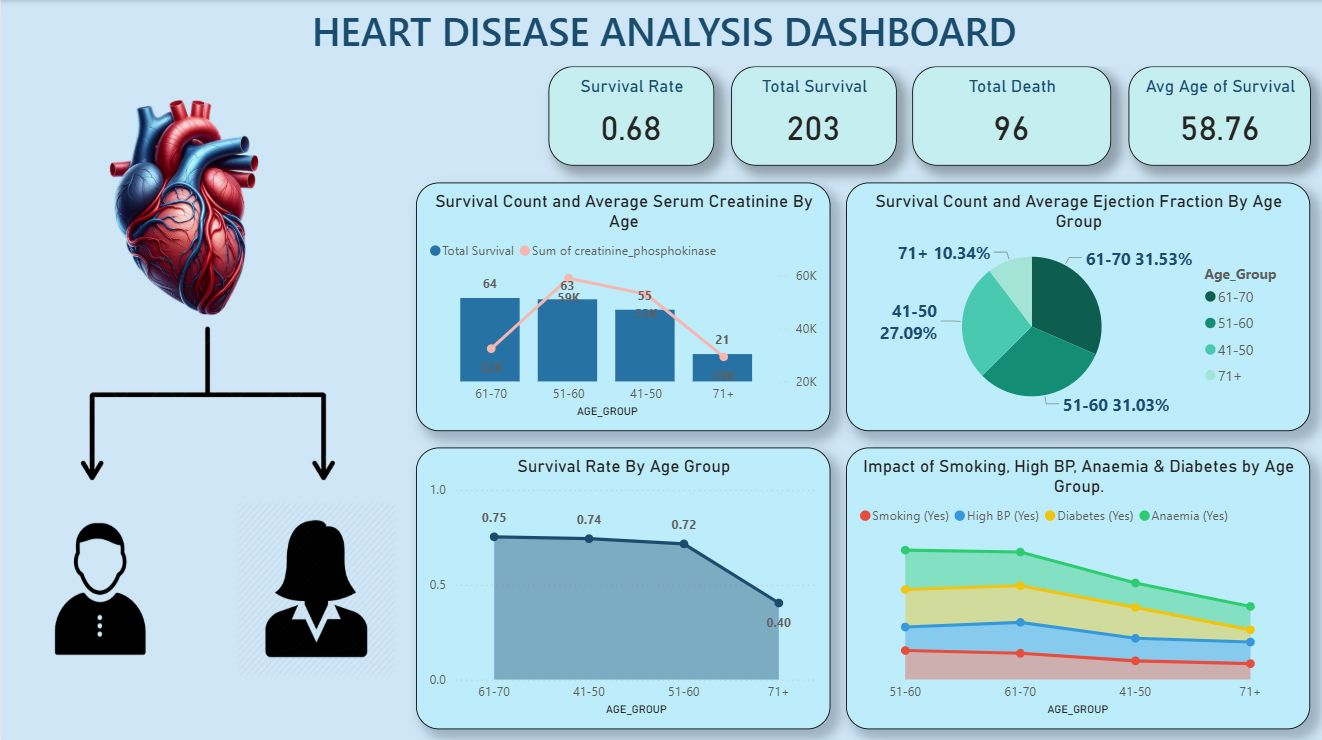

This screenshot's page, from the dashboard's own definition file:
{"tool":"powerbi","page":{"name":"Page 1","canvas":[1280,720],"ordinal":0},"visuals":[{"type":"card","title":"Total Survival","fields":{"Values":["heartfail.Total Survival"]},"box":[704,64,160,96],"z":0},{"type":"card","title":"Survival Rate","fields":{"Values":["heartfail.Survival Rate"]},"box":[528,64,160,96],"z":1000},{"type":"card","title":"Total Death","fields":{"Values":["heartfail.Total Death"]},"box":[880,64,192,96],"z":2000},{"type":"card","title":"Avg Age of Survival","fields":{"Values":["heartfail.Survival % by Age"]},"box":[1088,64,176,96],"z":3000},{"type":"lineClusteredColumnComboChart","title":"Survival Count and Average Serum Creatinine By Age","fields":{"Category":["heartfail.AGE_GROUP"],"Y":["heartfail.Total Survival"],"Y2":["Sum(heartfail.creatinine_phosphokinase)"]},"box":[400,176,400,240],"z":4000},{"type":"pieChart","title":"Survival Count and Average Ejection Fraction By Age Group","fields":{"Category":["heartfail.AGE_GROUP"],"Y":["heartfail.Total Survival"]},"box":[816,176,448,240],"z":5000},{"type":"areaChart","title":"Survival Rate By Age Group","fields":{"Category":["heartfail.AGE_GROUP"],"Y":["heartfail.Survival Rate"]},"box":[400,432,400,272],"z":6000},{"type":"stackedAreaChart","title":"Impact of Smoking, High BP, Anaemia & Diabetes by Age Group.","fields":{"Category":["heartfail.AGE_GROUP"],"Y":["heartfail.Smoking (Yes)","heartfail.High BP (Yes)","heartfail.Diabetes (Yes)","heartfail.Anaemia (Yes)"]},"box":[816,432,448,272],"z":7000},{"type":"textbox","box":[0,0,1280,64],"z":8000},{"type":"slicer","fields":{"Values":["heartfail.sex"]},"box":[0,704,16,16],"z":9000},{"type":"actionButton","title":"♂","box":[16,480,160,176],"z":10000},{"type":"actionButton","title":"♀","box":[224,480,160,176],"z":11000},{"type":"actionButton","box":[64,80,224,240],"z":12000},{"type":"image","box":[16,256,368,288],"z":13000}]}

Visuals, with their boxes in screenshot pixels (x1, y1, x2, y2), scaled from the page's 1280x720 canvas onto the 1322x740 screenshot:
"Total Survival" card: left=727, top=66, right=892, bottom=164
"Survival Rate" card: left=545, top=66, right=711, bottom=164
"Total Death" card: left=909, top=66, right=1107, bottom=164
"Avg Age of Survival" card: left=1124, top=66, right=1305, bottom=164
"Survival Count and Average Serum Creatinine By Age" lineClusteredColumnComboChart: left=413, top=181, right=826, bottom=428
"Survival Count and Average Ejection Fraction By Age Group" pieChart: left=843, top=181, right=1305, bottom=428
"Survival Rate By Age Group" areaChart: left=413, top=444, right=826, bottom=724
"Impact of Smoking, High BP, Anaemia & Diabetes by Age Group." stackedAreaChart: left=843, top=444, right=1305, bottom=724
textbox: left=0, top=0, right=1321, bottom=66
slicer - heartfail.sex: left=0, top=724, right=17, bottom=739
"♂" actionButton: left=17, top=493, right=182, bottom=674
"♀" actionButton: left=231, top=493, right=397, bottom=674
actionButton: left=66, top=82, right=297, bottom=329
image: left=17, top=263, right=397, bottom=559
